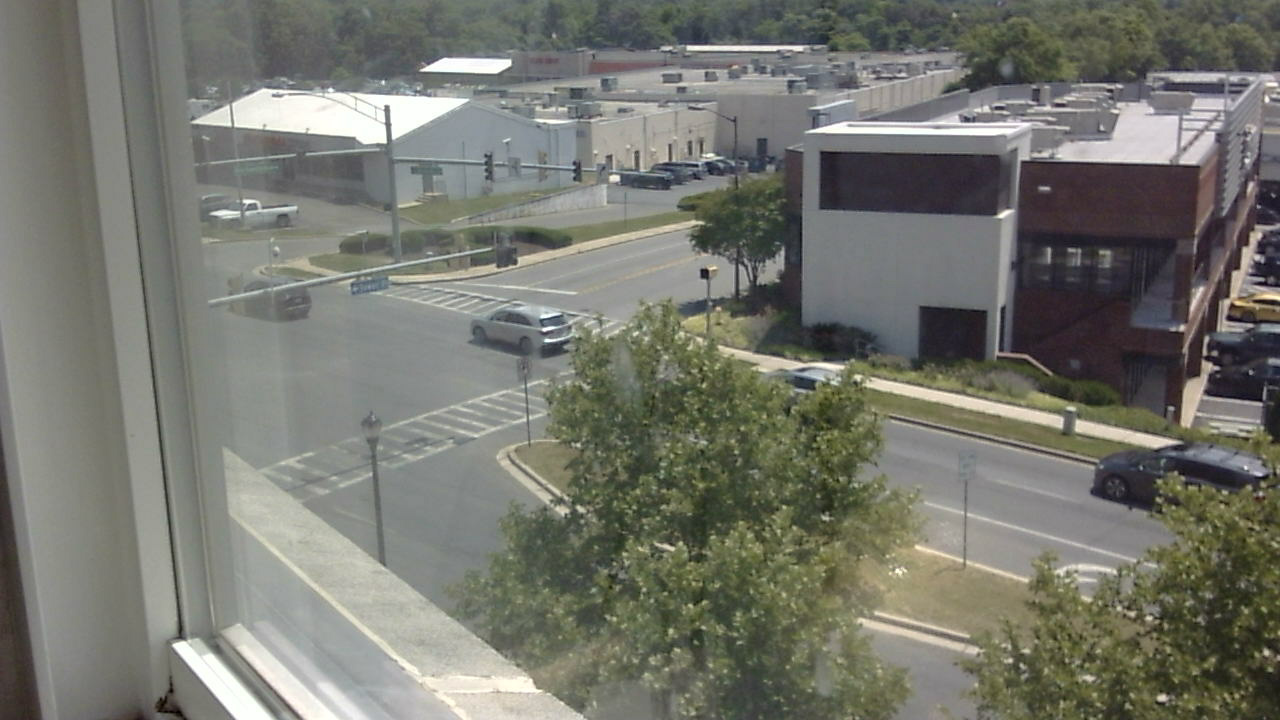Car: (1086, 433, 1280, 542), (458, 279, 584, 376), (751, 357, 869, 426), (225, 263, 325, 335)
